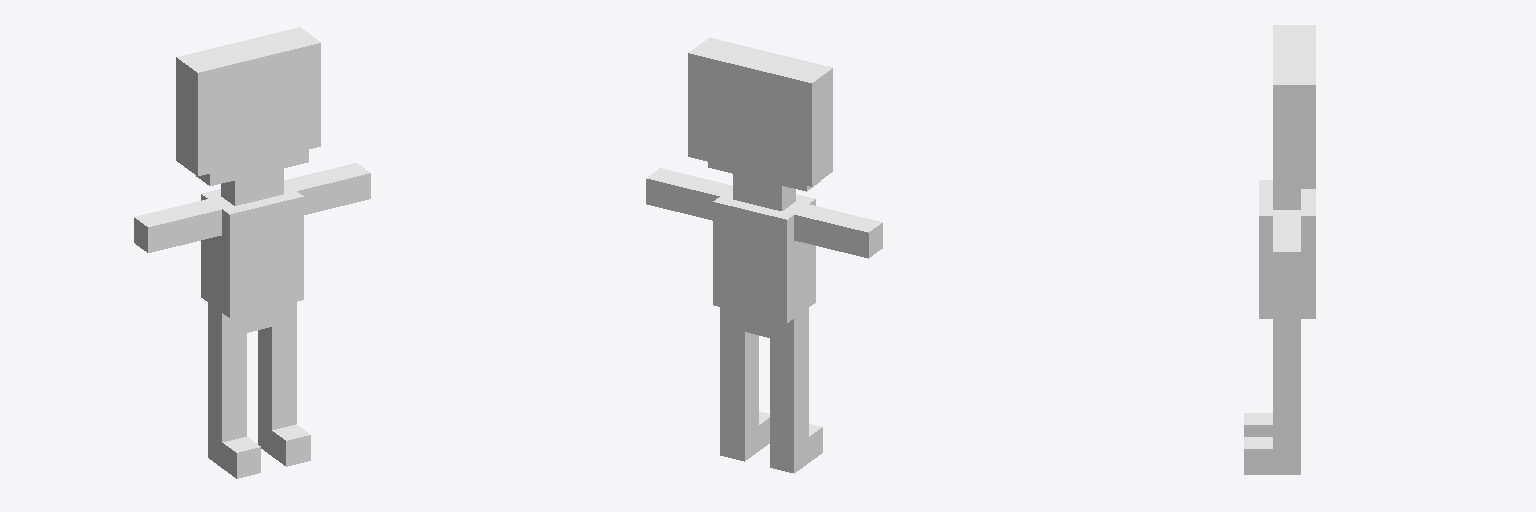
The model's file is hito_001.obj.
3 renders of one model, left to right at view 1: azimuth 30°, elevation 25°; view 2: azimuth 150°, elevation 25°; view 3: azimuth 270°, elevation 25°, orthographic.
Bounding box in the file's own units: 18 × 31 × 5.